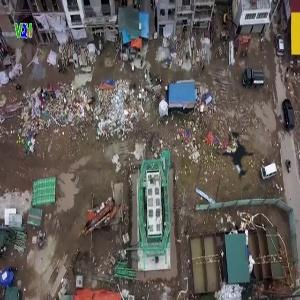drone: (190, 112, 284, 206)
